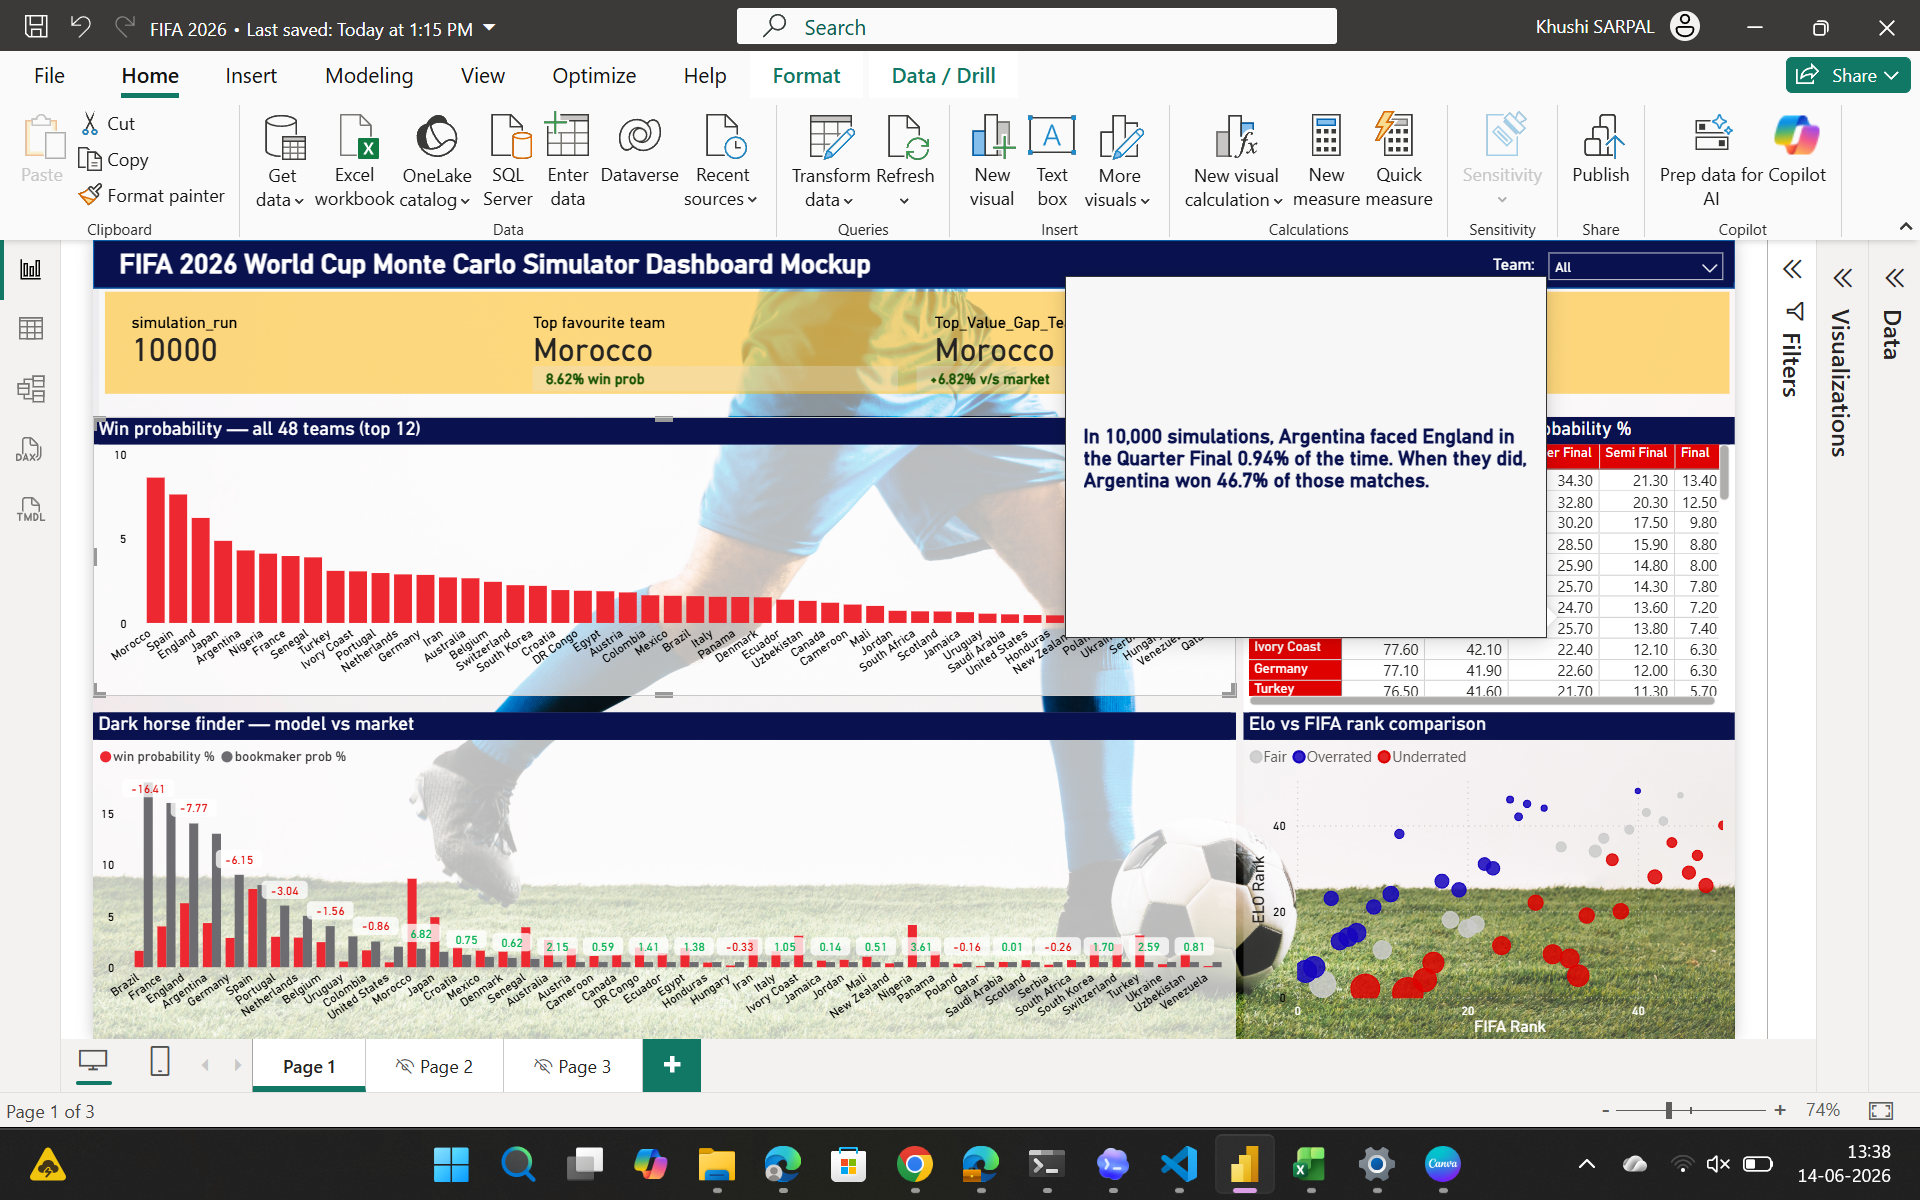

This screenshot's page, from the dashboard's own definition file:
{"tool":"powerbi","page":{"name":"Page 1","canvas":[1480,720],"ordinal":0},"visuals":[{"type":"cardVisual","fields":{"Data":["simulation_results.simulation_run","simulation_results.Top favourite team","simulation_results.Biggest_Dark_Horse","simulation_results.Biggest Upset Team"]},"box":[5.3,43.8,1474.2,115.6],"z":0},{"type":"cardVisual","fields":{"Data":["simulation_results.top win prob"]},"box":[395.7,113.8,329.2,22.8],"z":1000},{"type":"cardVisual","fields":{"Data":["simulation_results.max value gap"]},"box":[742.3,113.8,332.7,22.8],"z":2000},{"type":"clusteredColumnChart","title":"Win probability — all 48 teams (top 12)","fields":{"Category":["simulation_results.team"],"Y":["Sum(simulation_results.win_probability_%)"]},"box":[0,159.9,1029.6,251.3],"z":3000},{"type":"clusteredColumnChart","title":"Dark horse finder — model vs market","fields":{"Category":["simulation_results.team"],"Y":["Sum(simulation_results.win_probability_%)","Sum(simulation_results.bookmaker_prob_%)"]},"box":[0,425.2,1030,295.2],"z":4000},{"type":"shape","box":[0,0,1479.4,43.8],"z":5000},{"type":"actionButton","box":[0,0,724.8,40.3],"z":6000},{"type":"scatterChart","title":"Elo vs FIFA rank comparison","fields":{"X":["simulation_results (2).fifa_ranking"],"Y":["simulation_results (2).elo_rank"],"Size":["Sum(simulation_results (2).win_probability_%)"],"Series":["simulation_results (2).Rank Difference Label"]},"box":[1036.7,425.2,442.8,295.2],"z":7000},{"type":"pivotTable","title":"Road to the Final - Reach Round Probability %","fields":{"Rows":["path_data.team"],"Columns":["path_data.round"],"Values":["Max(path_data.reach_round_probability_%)"]},"box":[1036.7,159.9,442.8,265.3],"z":8000},{"type":"slicer","fields":{"Values":["simulation_results.team"]},"box":[1302,1.8,177.5,36.9],"z":9000},{"type":"actionButton","box":[1229.9,1.8,100.2,40.4],"z":10000}]}

Visuals, with their boxes on the page's 1480x720 design canvas (x1, y1, x2, y2). These are canvas units, not pixel positions in the 1920x1200 screenshot, which may show the page scaled, cropped or inside an application window:
cardVisual - simulation_results.simulation_run x simulation_results.Top favourite team: region(5, 44, 1480, 159)
cardVisual - simulation_results.top win prob: region(396, 114, 725, 137)
cardVisual - simulation_results.max value gap: region(742, 114, 1075, 137)
"Win probability — all 48 teams (top 12)" clusteredColumnChart: region(0, 160, 1030, 411)
"Dark horse finder — model vs market" clusteredColumnChart: region(0, 425, 1030, 720)
shape: region(0, 0, 1479, 44)
actionButton: region(0, 0, 725, 40)
"Elo vs FIFA rank comparison" scatterChart: region(1037, 425, 1480, 720)
"Road to the Final - Reach Round Probability %" pivotTable: region(1037, 160, 1480, 425)
slicer - simulation_results.team: region(1302, 2, 1480, 39)
actionButton: region(1230, 2, 1330, 42)
